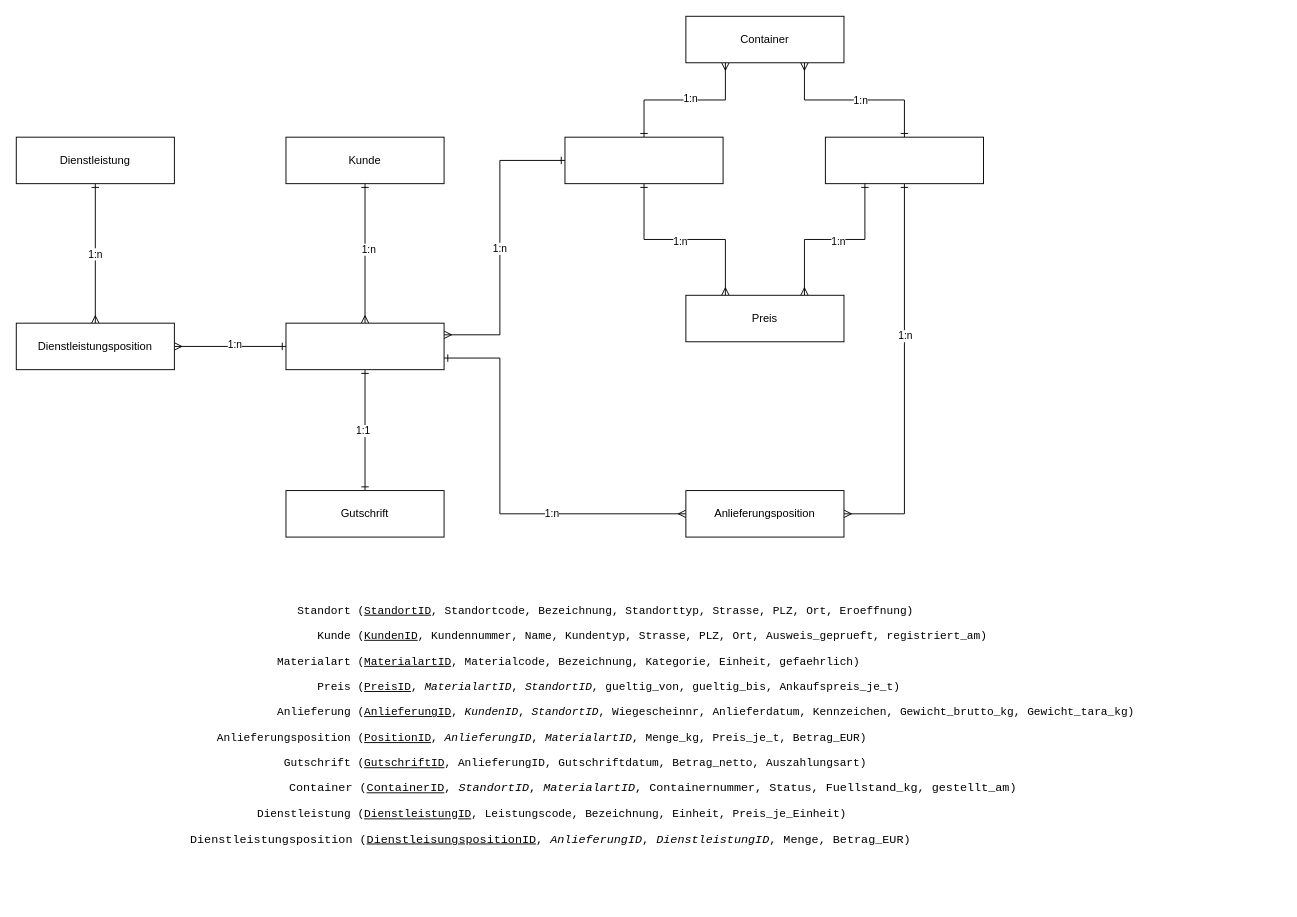
Image size: 1297x917. Some labels were removed from this diagram. Each missing label, with the centre of its shape:
Anlieferung: point 364,346
Materialart: point 903,160
Standort: point 643,160
